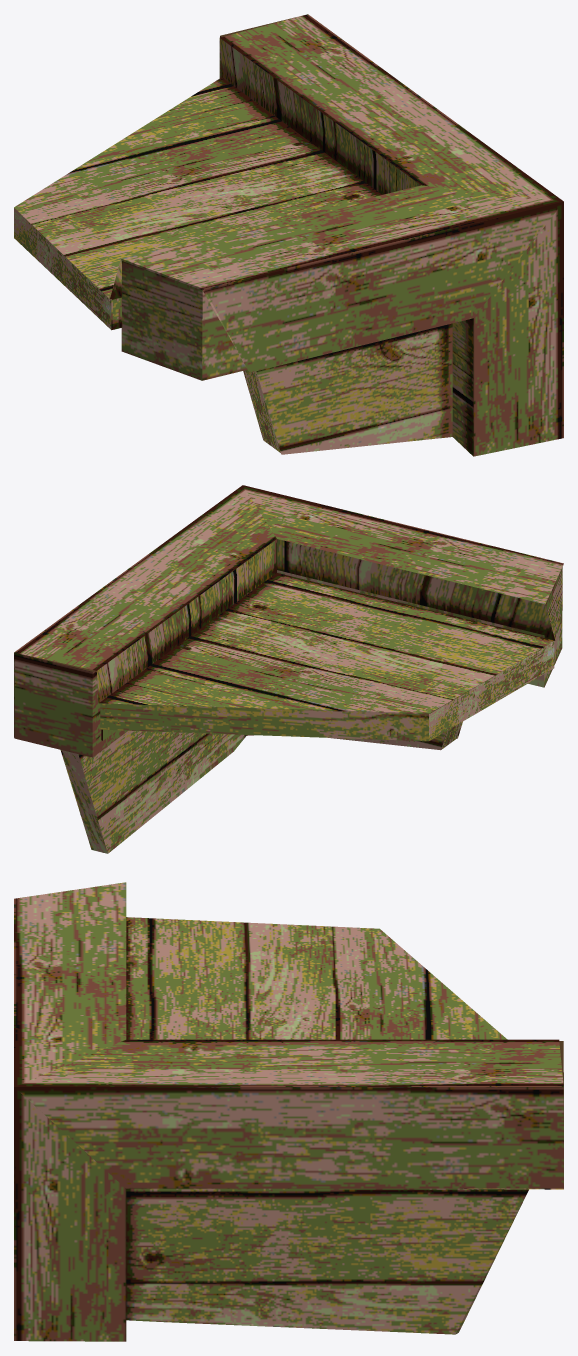
File: CratePiece_2.fbx
3 renders of one model, top to bottom at view 1: azimuth 30°, elevation 25°; view 2: azimuth 150°, elevation 25°; view 3: azimuth 270°, elevation 25°, orthographic. The views are drawn at different scales.
Visible parts, largest first — view 1: Cube.003; view 2: Cube.003; view 3: Cube.003.
Part boxes in pixels (<box>): Cube.003: <box>14,14,563,456</box>; Cube.003: <box>14,485,563,853</box>; Cube.003: <box>14,882,563,1341</box>.
Bounding box in the file's own units: 55.06 × 32.5 × 60.77.
Materials: 1 (1 with a texture image).
